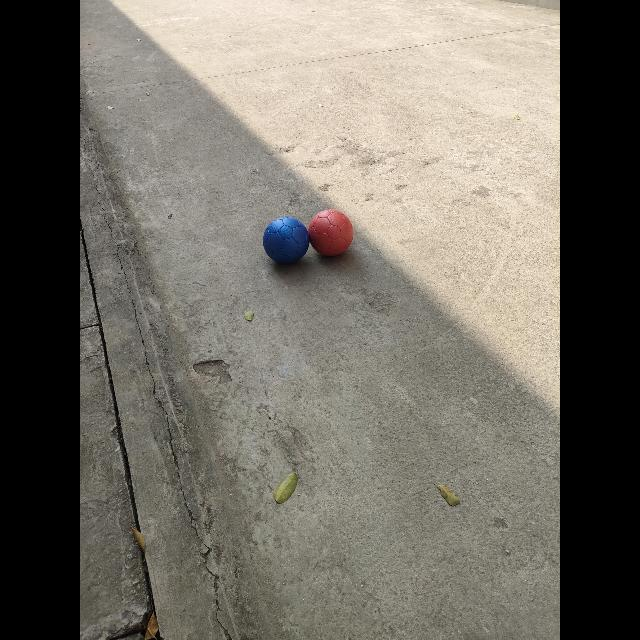B: (262, 216, 310, 264)
R: (309, 210, 354, 256)
